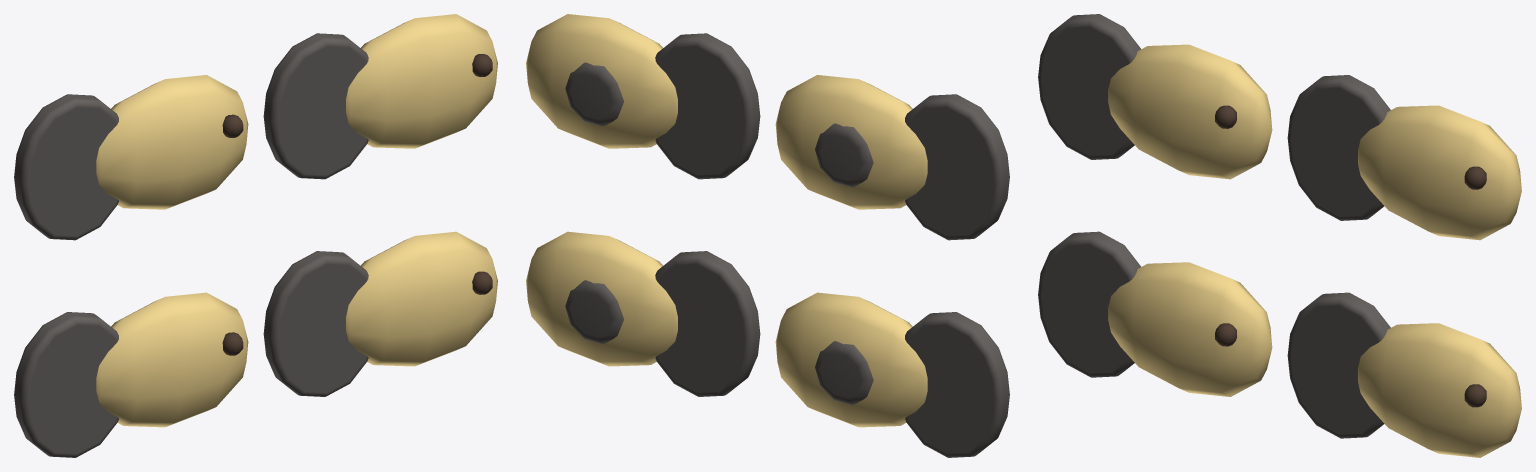
Rendered from fish_trophy_wall.glb.
3 renders of one model, left to right at view 1: azimuth 30°, elevation 25°; view 2: azimuth 150°, elevation 25°; view 3: azimuth 330°, elevation 25°, orthographic.
Parts seen in each view (by area): view 1: fish_trophy_wall_mesh; view 2: fish_trophy_wall_mesh; view 3: fish_trophy_wall_mesh.
Part boxes in pixels (x1,y1,x2,y2): fish_trophy_wall_mesh: [14, 14, 497, 457]; fish_trophy_wall_mesh: [526, 14, 1009, 457]; fish_trophy_wall_mesh: [1038, 14, 1521, 457].
Size of the model in its own units: 0.462 by 0.3302 by 0.0645.
